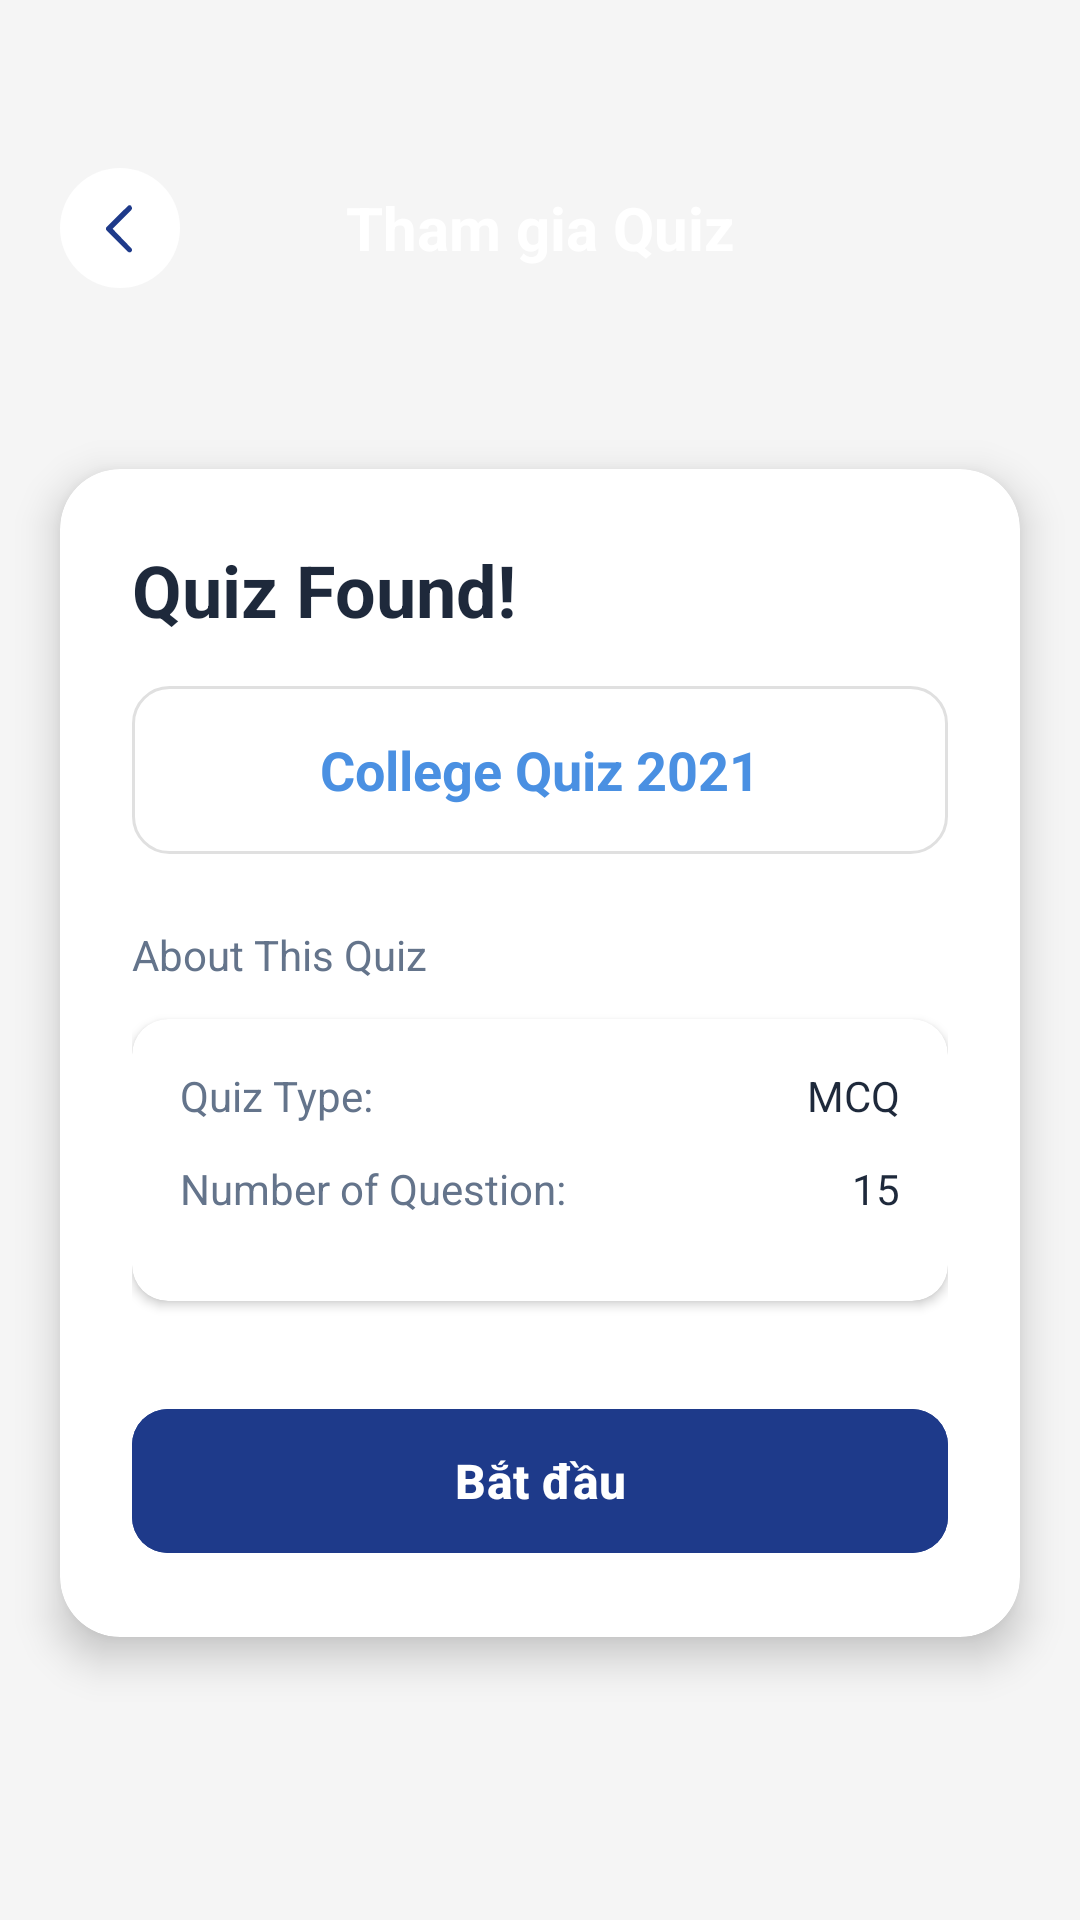

Named icons in this screenshot (1080px x 1920px) and their centers, point (x, y):
Back: point (120, 228)
